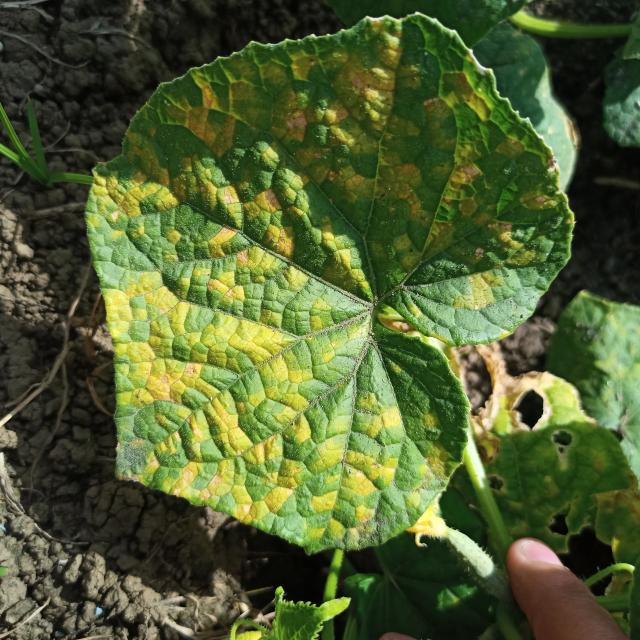disease_cucumber: (95, 38, 545, 528)
